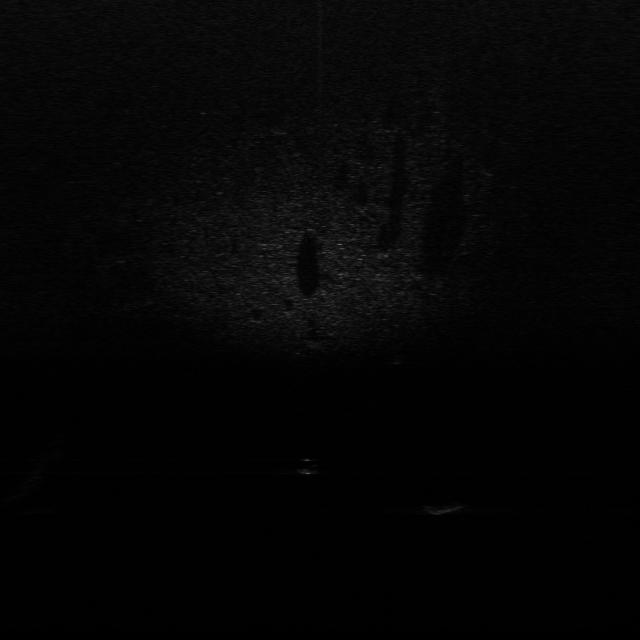ball: (292, 456, 319, 477)
square cage: (412, 498, 471, 516)
tyre: (381, 315, 413, 367)
